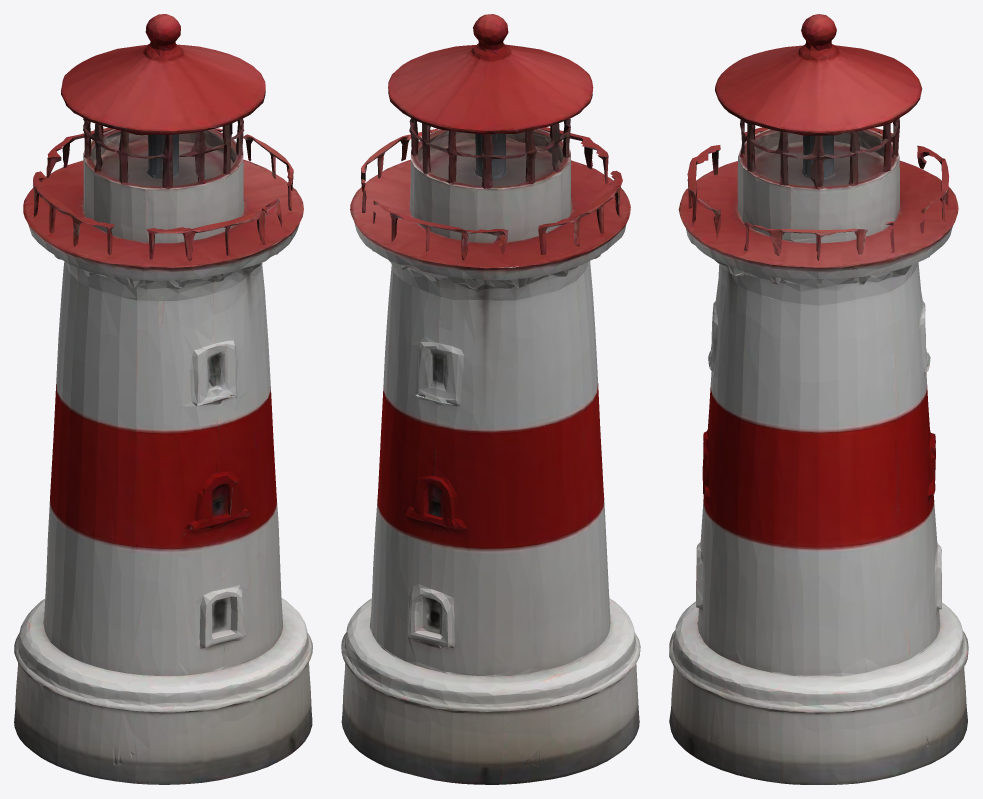
The model's file is lighthouse.glb.
The picture shows the model from 3 angles, left to right: view 1: azimuth 30°, elevation 25°; view 2: azimuth 150°, elevation 25°; view 3: azimuth 270°, elevation 25°; orthographic projection.
Visible parts, largest first — view 1: geometry_0; view 2: geometry_0; view 3: geometry_0.
Boxes of the visible parts, bbox=[...] form: geometry_0: bbox=[14, 14, 312, 784]; geometry_0: bbox=[341, 14, 640, 784]; geometry_0: bbox=[669, 14, 968, 784].
Size of the model in its own units: 0.3831 by 1 by 0.3846.
1 material, 1 textured.
